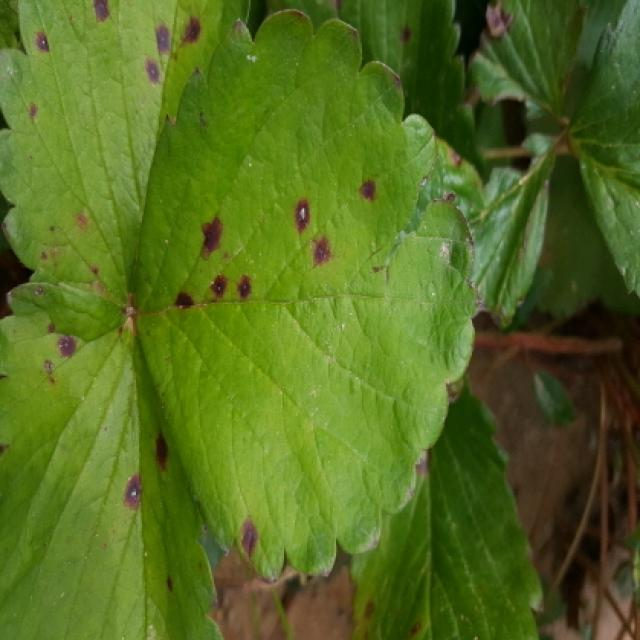Leaf Spot: (132, 10, 485, 583), (2, 282, 226, 638), (2, 0, 252, 307), (350, 375, 545, 638), (249, 0, 488, 183)
